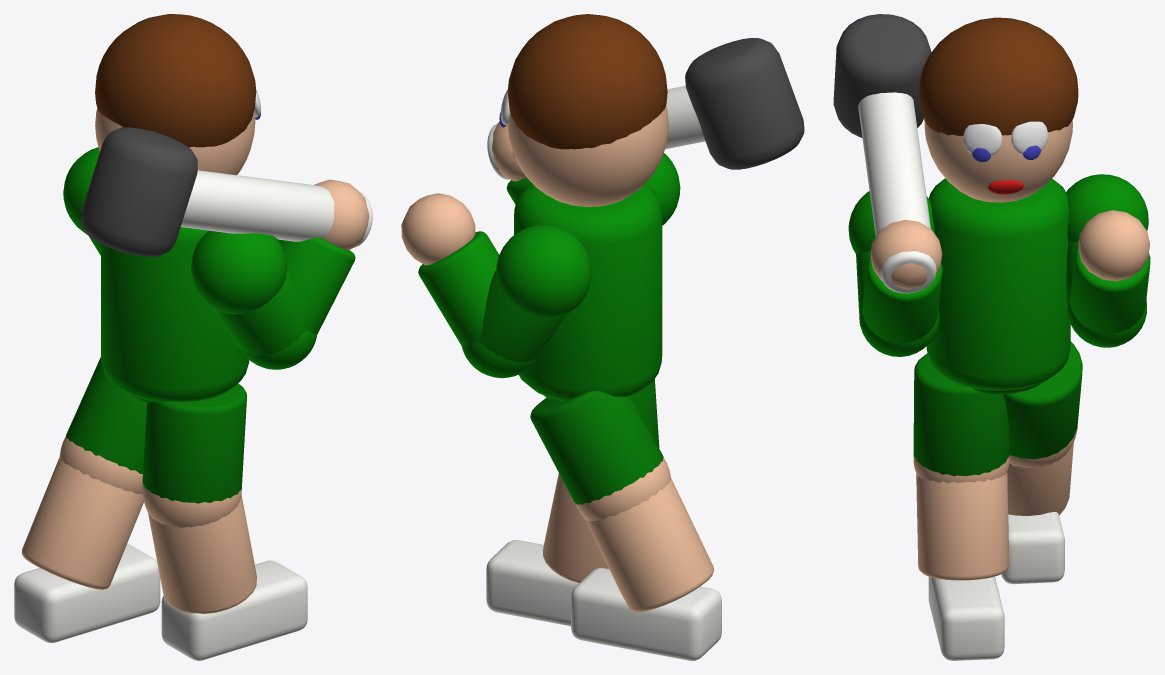
3 views of the same model, side by side, from view 1: azimuth 30°, elevation 25°; view 2: azimuth 150°, elevation 25°; view 3: azimuth 270°, elevation 25° (orthographic). The views are drawn at different scales.
Parts seen in each view (by area): view 1: torso, hair, mallet, thigh_f, shin_n, shin_f, shoe_n, handle, shoe_f, shoulder_ball_f, thigh_n, farm_f (+7 smaller); view 2: torso, hair, mallet, thigh_n, shin_n, shoe_n, head, shoulder_ball_n, shoe_f, farm_n, hand_n, shin_f (+7 smaller); view 3: torso, hair, shin_f, handle, thigh_f, mallet, head, shoe_f, thigh_n, farm_n, farm_f, hand_n (+12 smaller).
Part boxes in pixels (<box>): torso: <box>101,227,249,401</box>; hair: <box>95,14,256,147</box>; mallet: <box>81,127,197,257</box>; thigh_f: <box>142,383,246,503</box>; shin_n: <box>21,458,143,589</box>; shin_f: <box>148,495,256,614</box>; shoe_n: <box>14,543,160,643</box>; handle: <box>180,170,372,247</box>; shoe_f: <box>161,560,307,660</box>; shoulder_ball_f: <box>191,230,286,314</box>; thigh_n: <box>66,357,146,473</box>; farm_f: <box>278,237,355,334</box>; torso: <box>514,183,662,400</box>; hair: <box>507,14,667,149</box>; mallet: <box>685,38,804,169</box>; thigh_n: <box>530,391,663,504</box>; shin_n: <box>586,478,713,612</box>; shoe_n: <box>571,568,721,660</box>; head: <box>507,106,668,206</box>; shoulder_ball_n: <box>496,224,591,318</box>; shoe_f: <box>486,540,578,626</box>; farm_n: <box>418,231,499,346</box>; hand_n: <box>401,193,475,265</box>; shin_f: <box>543,473,608,583</box>; torso: <box>926,178,1070,390</box>; hair: <box>919,17,1078,136</box>; shin_f: <box>916,473,1009,580</box>; handle: <box>858,92,936,293</box>; thigh_f: <box>913,353,1009,476</box>; mallet: <box>833,14,931,137</box>; head: <box>924,119,1072,202</box>; shoe_f: <box>928,576,1004,660</box>; thigh_n: <box>1003,341,1082,459</box>; farm_n: <box>1070,245,1150,333</box>; farm_f: <box>862,254,942,343</box>; hand_n: <box>1078,210,1149,281</box>.
Bounding box in the file's own units: 0.8035 × 1.62 × 0.789.
